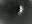person: (19, 6, 25, 17)
